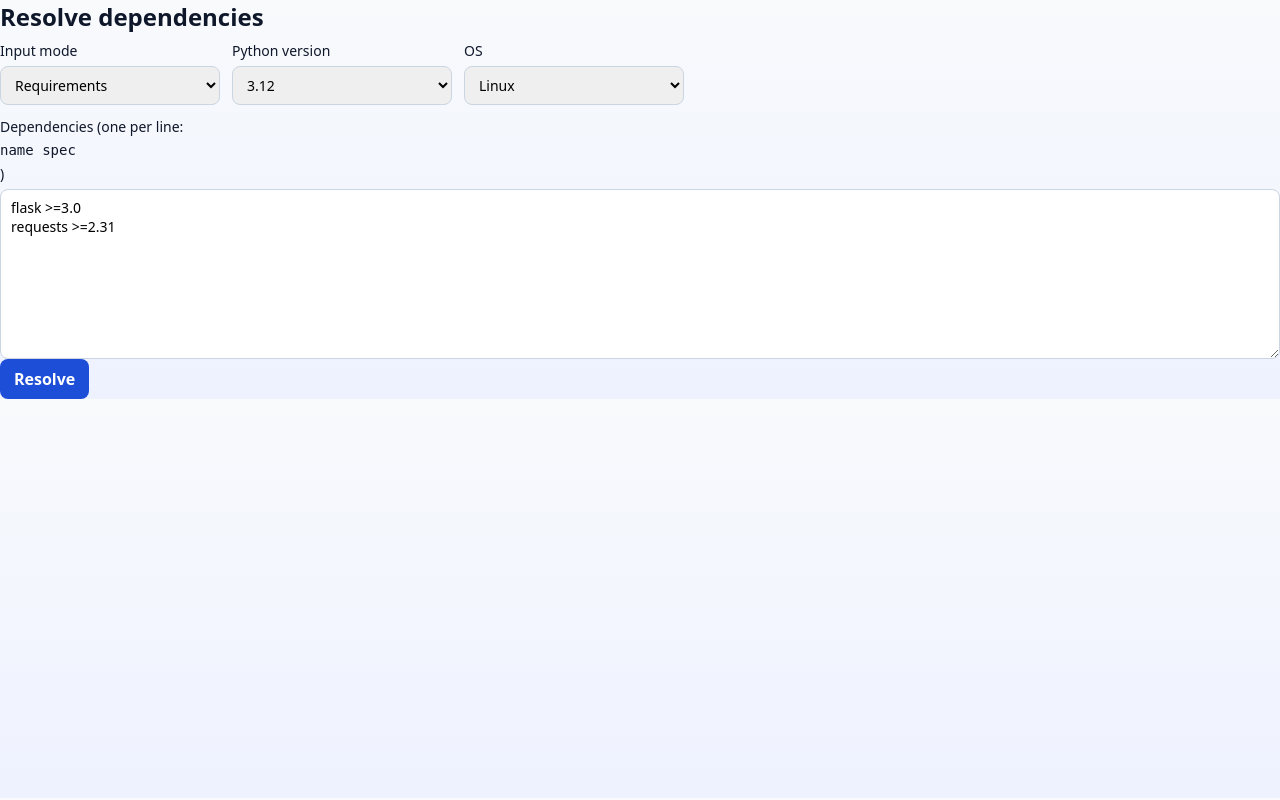
ResolvePage › submits resolve request and renders result tree
The width and height of the screenshot is (1280, 800).
Select "3.11" in the dropdown labelled "Python version" at [342, 86], box [232, 66, 452, 105]
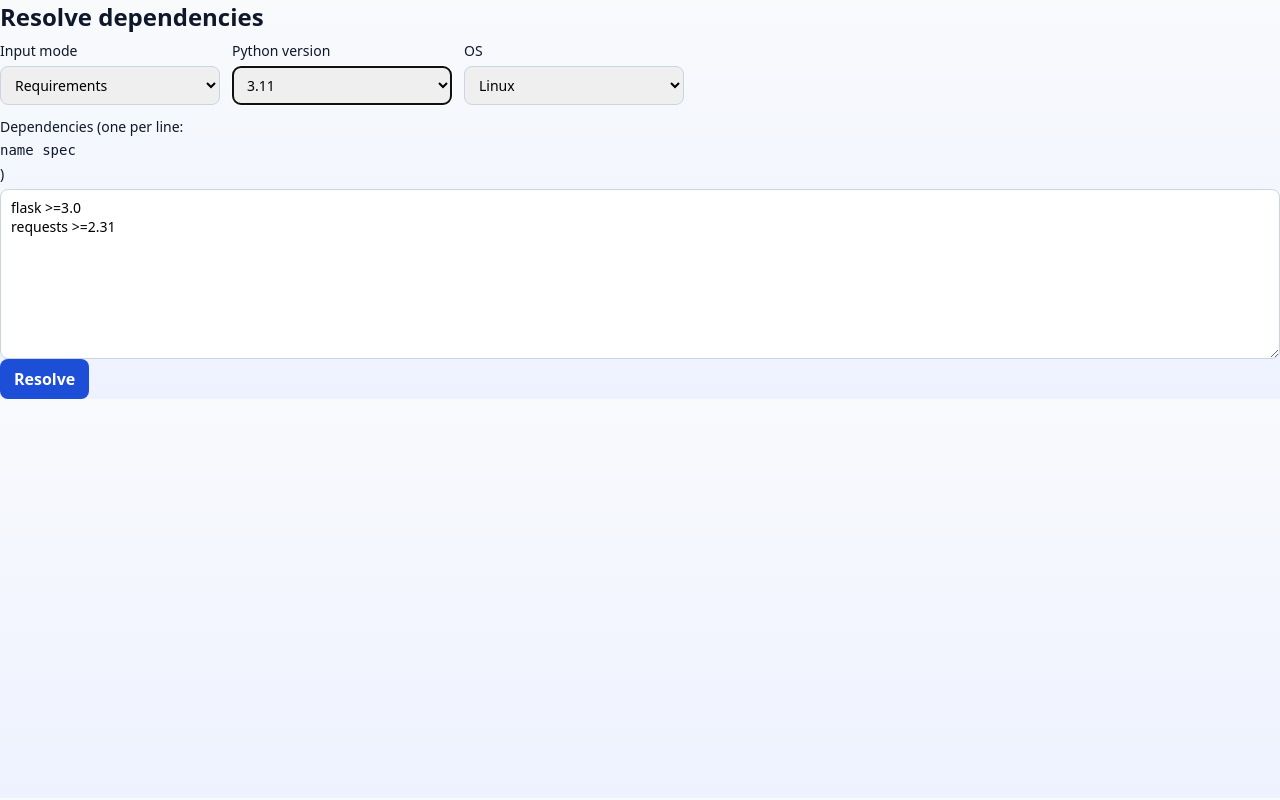
Select "Windows" in the dropdown labelled "OS" at [574, 86], box [464, 66, 684, 105]
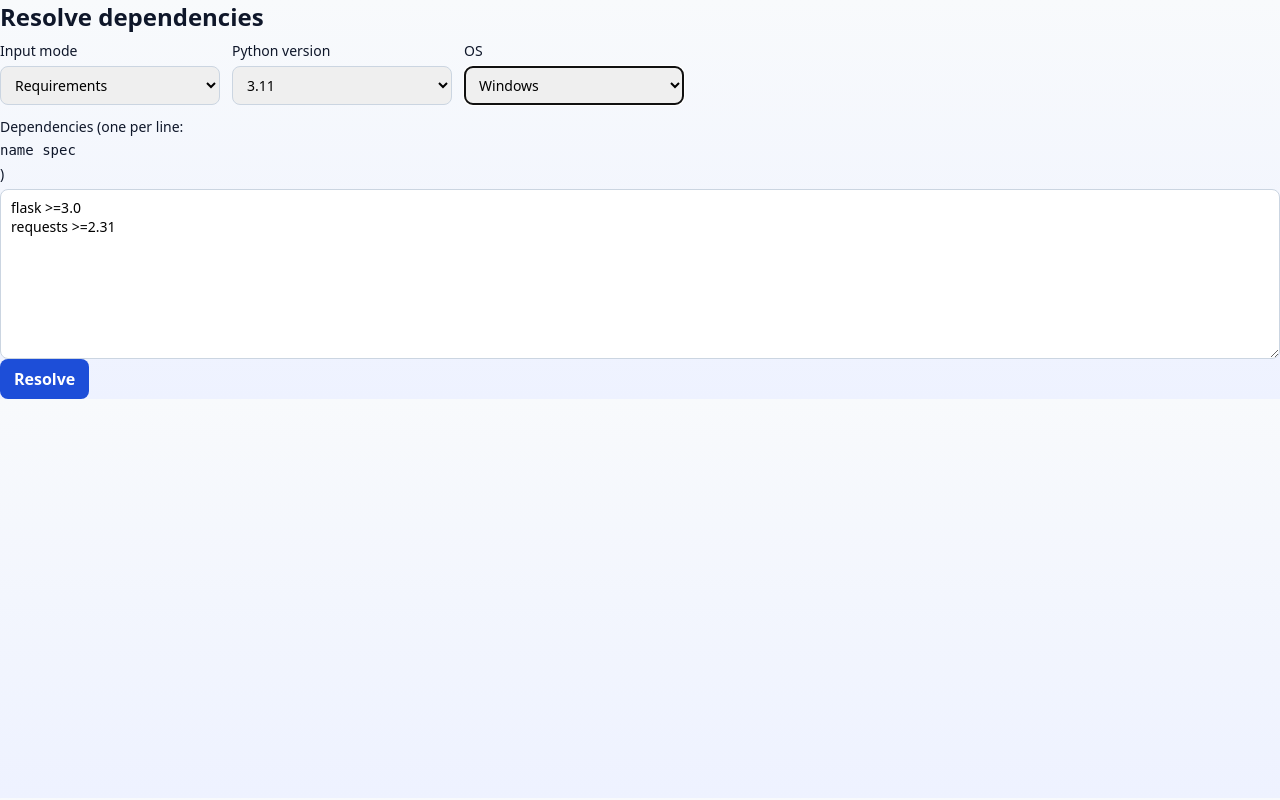
Click the button "Resolve" at [45, 379], box [0, 359, 89, 399]
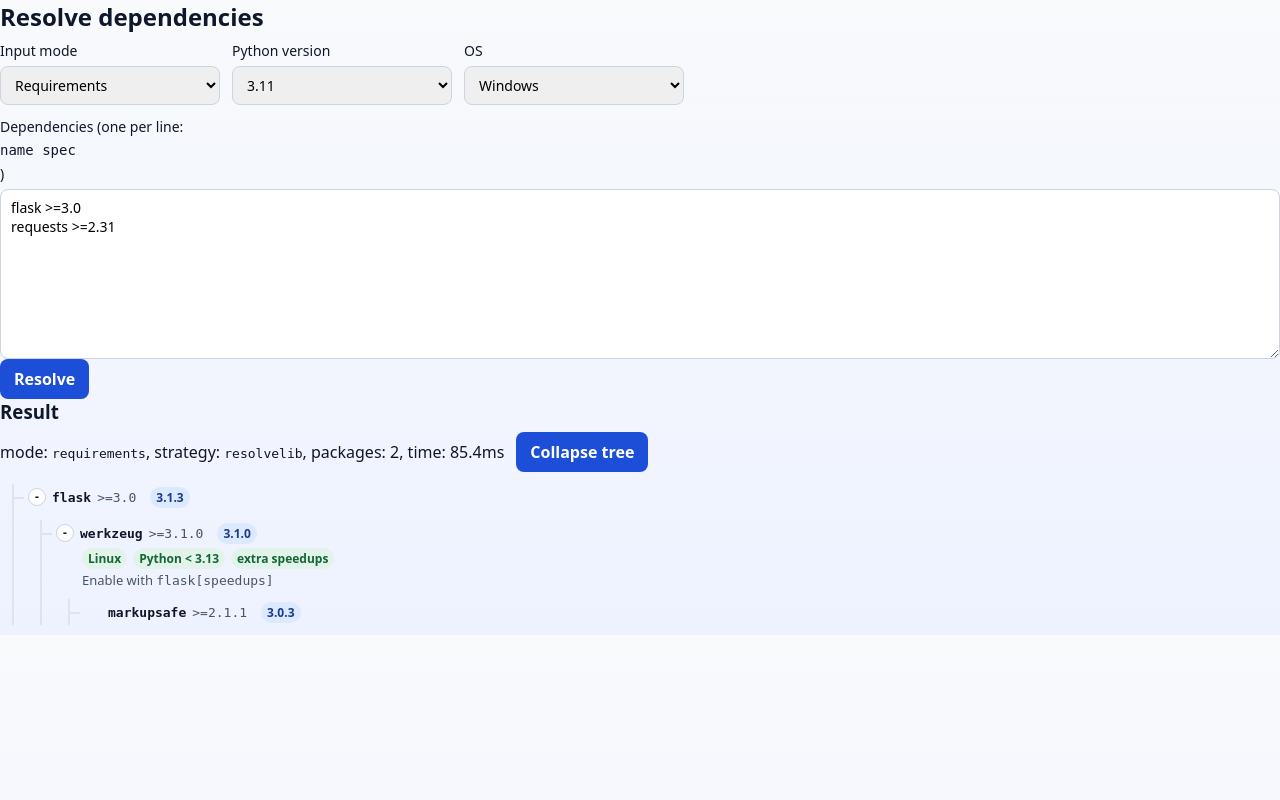
Check: the heading "Result" is shown, box [0, 399, 59, 424]
Check: the text "strategy:" is shown, box [146, 441, 224, 463]
Check: the text "flask" is shown, box [52, 490, 91, 504]
